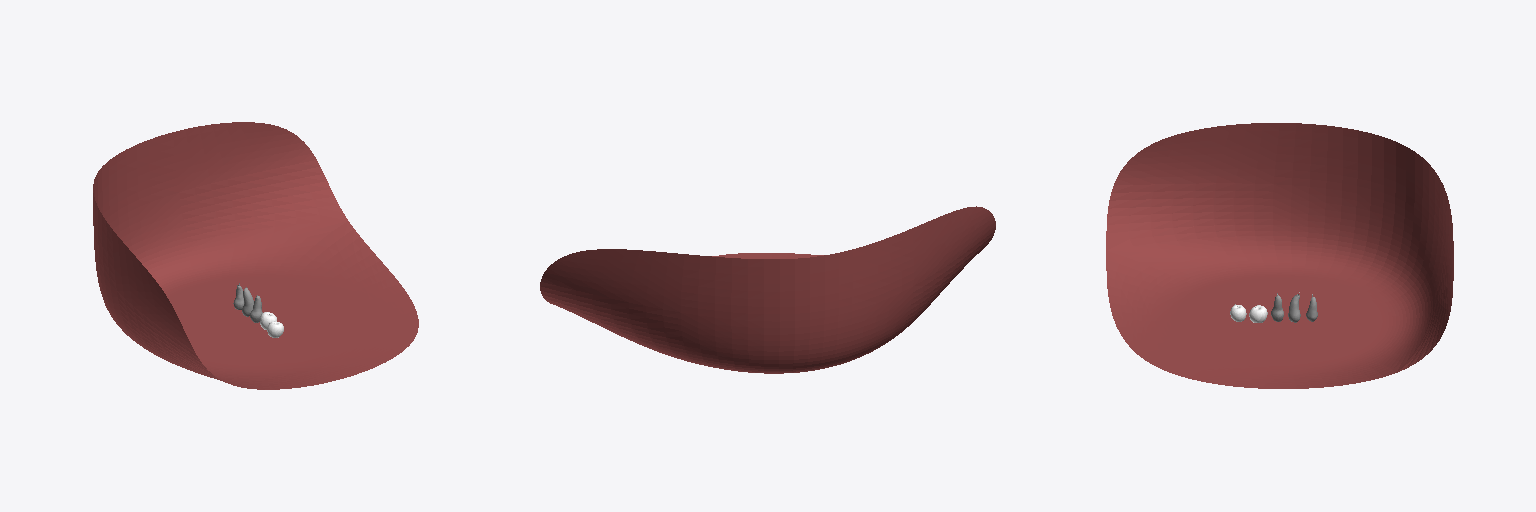
Rendered from Apples_Pears.obj.
The picture shows the model from 3 angles: view 1: azimuth 30°, elevation 25°; view 2: azimuth 150°, elevation 25°; view 3: azimuth 270°, elevation 25°; orthographic projection.
Parts seen in each view (by area): view 1: Boden_Plane.001; view 2: Boden_Plane.001; view 3: Boden_Plane.001.
Part boxes in pixels (bbox=[...]): Boden_Plane.001: bbox=[93, 122, 418, 389]; Boden_Plane.001: bbox=[540, 206, 995, 373]; Boden_Plane.001: bbox=[1106, 123, 1453, 388].
Size of the model in its own units: 16 by 6.66 by 16.